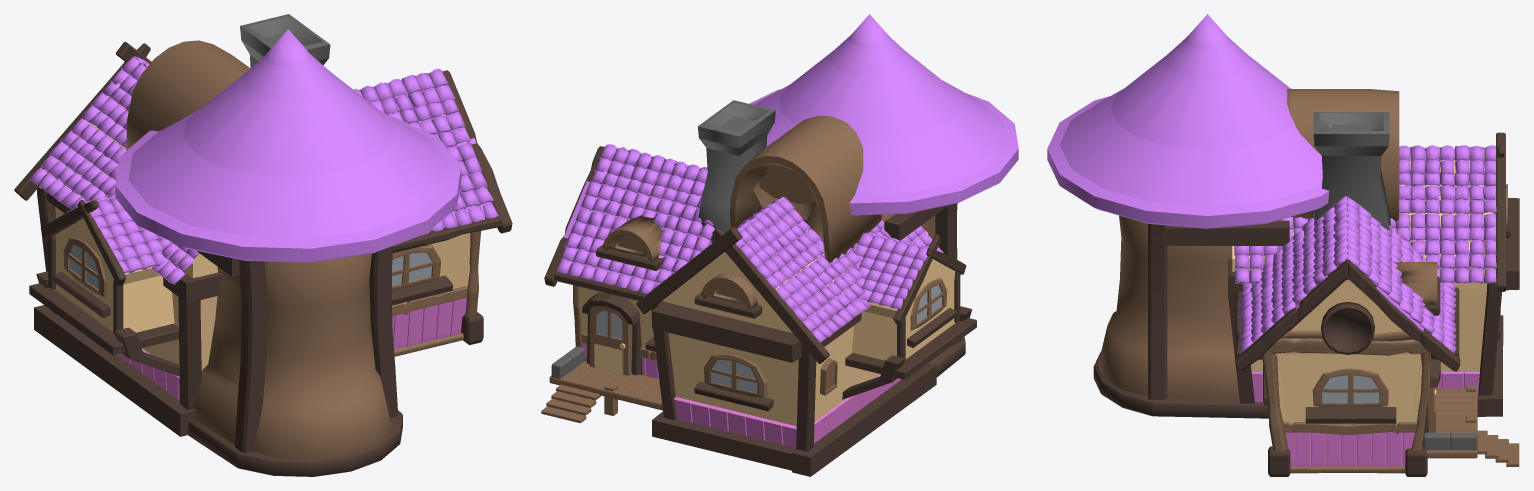
File: NewMageHouse.fbx
3 renders of one model, left to right at view 1: azimuth 30°, elevation 25°; view 2: azimuth 150°, elevation 25°; view 3: azimuth 270°, elevation 25°, orthographic. The views are drawn at different scales.
Parts seen in each view (by area): view 1: ColouredHouse.016; view 2: ColouredHouse.016; view 3: ColouredHouse.016.
Part boxes in pixels (<box>): ColouredHouse.016: <box>14,14,512,476</box>; ColouredHouse.016: <box>541,14,1018,476</box>; ColouredHouse.016: <box>1047,14,1519,476</box>.
Bounding box in the file's own units: 975 × 945 × 1108.
